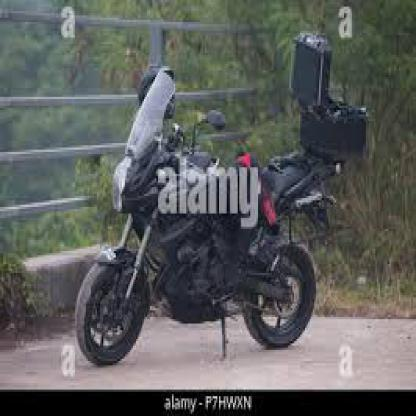Motorcycle: (66, 53, 355, 369)
